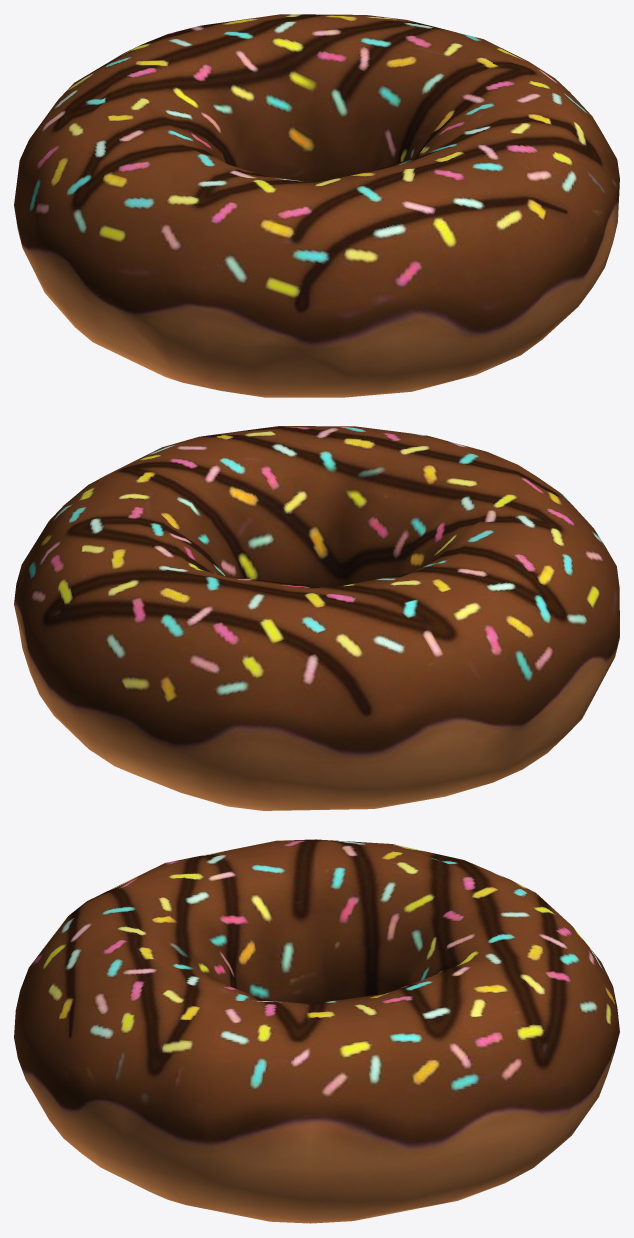
File: OBS0110268.fbx
3 renders of one model, top to bottom at view 1: azimuth 30°, elevation 25°; view 2: azimuth 150°, elevation 25°; view 3: azimuth 270°, elevation 25°, orthographic.
Visible parts, largest first — view 1: smOBS0110268; view 2: smOBS0110268; view 3: smOBS0110268.
Part boxes in pixels (bbox=[...]): smOBS0110268: bbox=[14, 14, 619, 397]; smOBS0110268: bbox=[14, 426, 619, 810]; smOBS0110268: bbox=[14, 839, 619, 1223].
Size of the model in its own units: 50.65 by 19.18 by 51.42.
1 material, 1 textured.
